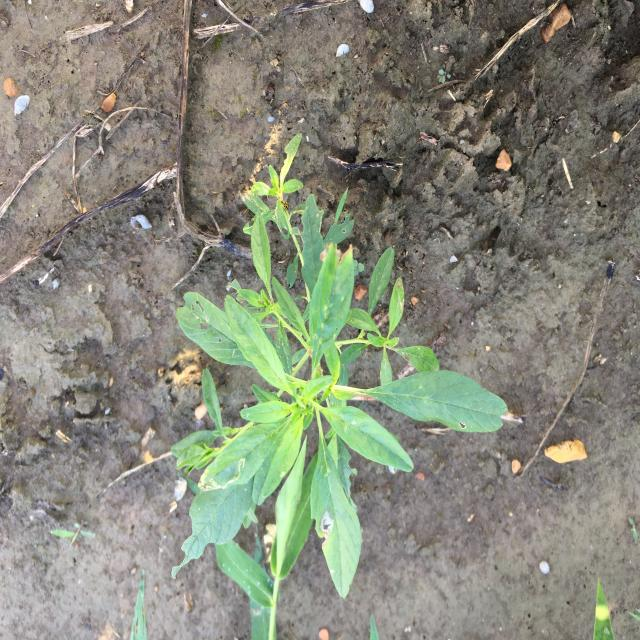Waterhemp: (167, 131, 511, 601)
